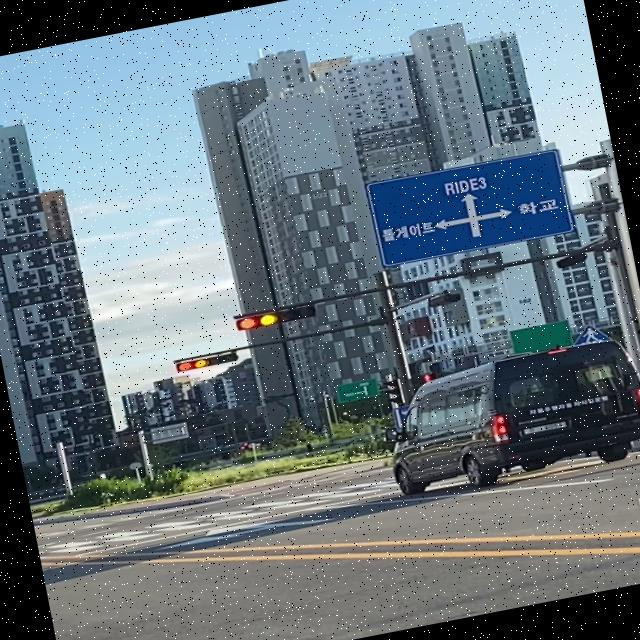yellow_light: (235, 304, 317, 332), (176, 351, 240, 372)
